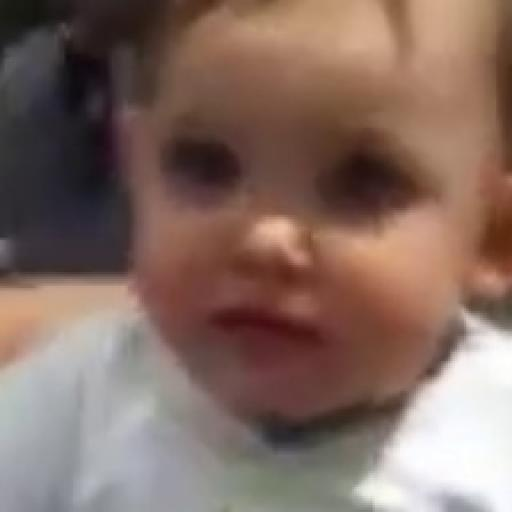Autism: (97, 32, 512, 491)
